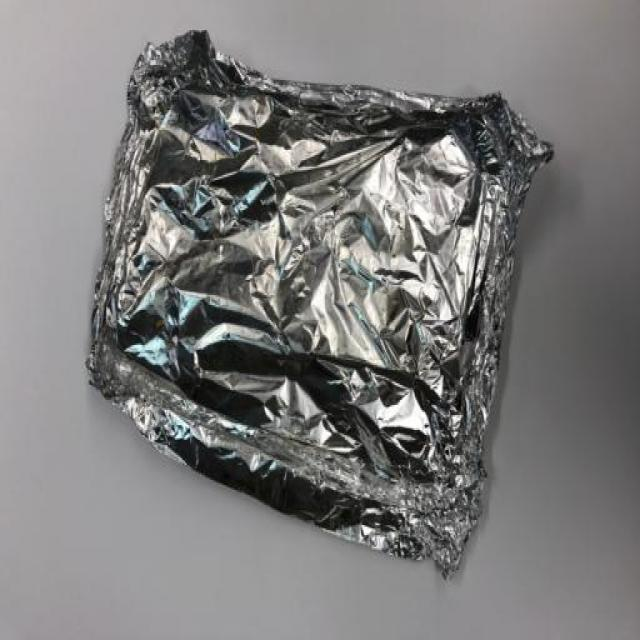others: (55, 25, 556, 605)
